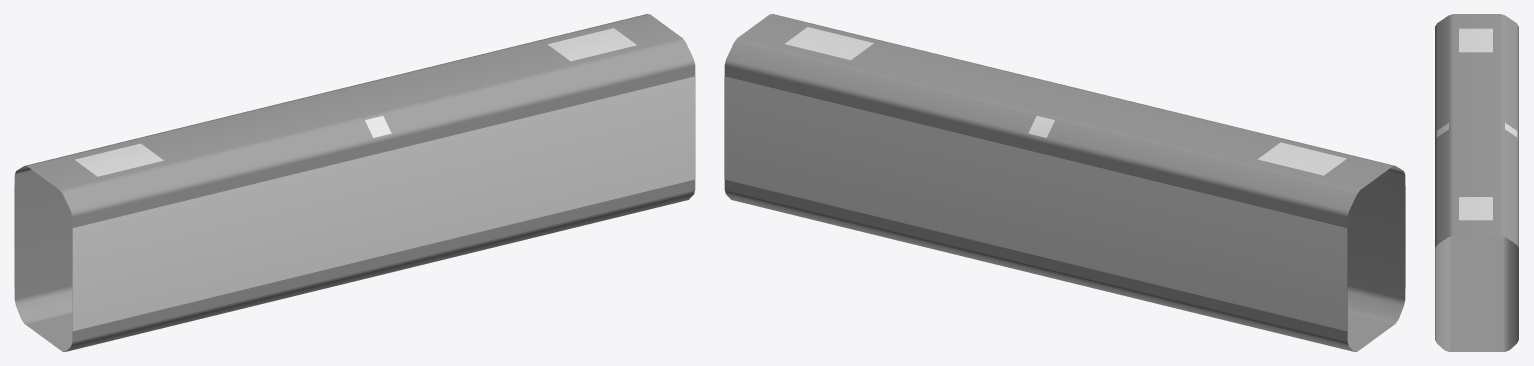
Rendered from FillerPiecePole.fbx.
3 views of the same model, side by side, from view 1: azimuth 30°, elevation 25°; view 2: azimuth 150°, elevation 25°; view 3: azimuth 270°, elevation 25° (orthographic). The views are drawn at different scales.
Visible parts, largest first — view 1: StylizedHardSurface_TrimDecals_004.072, Cube.079, StylizedHardSurface_Decals_027.008_projected; view 2: StylizedHardSurface_TrimDecals_004.072, Cube.079, StylizedHardSurface_Decals_027.008_projected; view 3: Cube.079, StylizedHardSurface_Decals_027.008_projected, StylizedHardSurface_Decals_013.069_projected.
Part boxes in pixels (box(x1,y1,x2,y2)): StylizedHardSurface_TrimDecals_004.072: box(14, 76, 695, 331); Cube.079: box(14, 14, 695, 351); StylizedHardSurface_Decals_027.008_projected: box(75, 28, 636, 176); StylizedHardSurface_TrimDecals_004.072: box(724, 76, 1405, 331); Cube.079: box(724, 14, 1405, 351); StylizedHardSurface_Decals_027.008_projected: box(785, 27, 1346, 175); Cube.079: box(1435, 14, 1518, 351); StylizedHardSurface_Decals_027.008_projected: box(1459, 28, 1492, 220); StylizedHardSurface_Decals_013.069_projected: box(1436, 123, 1517, 137).
Bounding box in the file's own units: 200 × 49.09 × 32.53.
